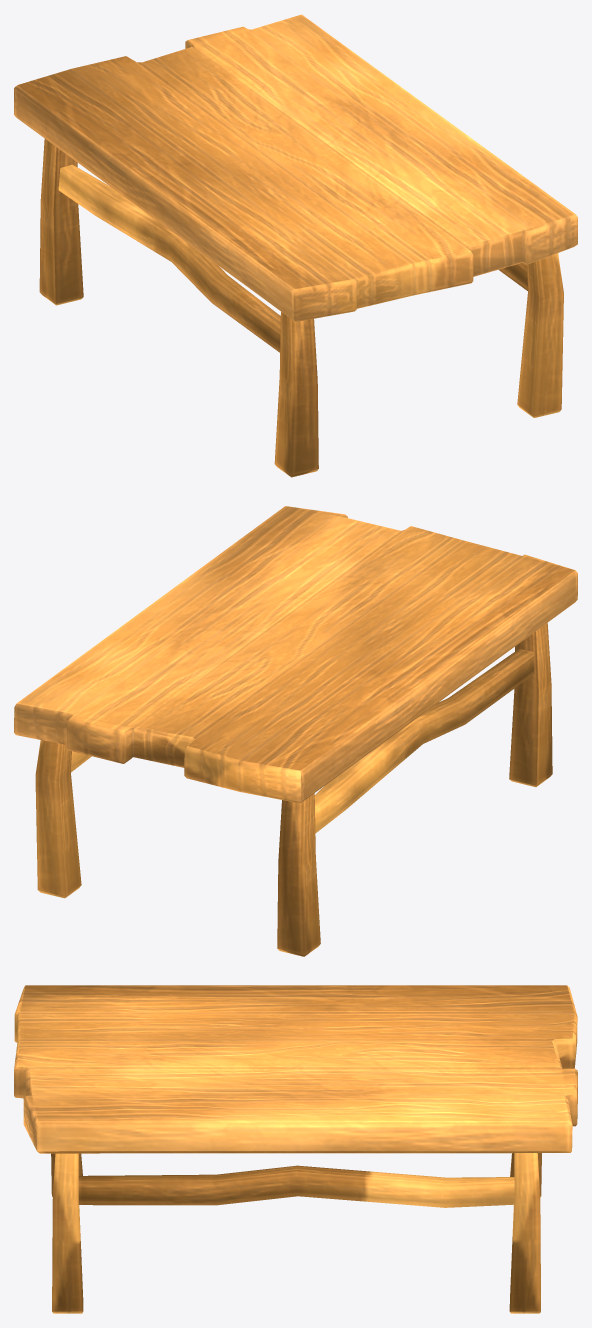
File: SM_Stylized_Table_E.fbx
3 renders of one model, top to bottom at view 1: azimuth 30°, elevation 25°; view 2: azimuth 150°, elevation 25°; view 3: azimuth 270°, elevation 25°, orthographic. The views are drawn at different scales.
Parts seen in each view (by area): view 1: SM_Stylized_Table_E_LOD0; view 2: SM_Stylized_Table_E_LOD0; view 3: SM_Stylized_Table_E_LOD0.
Boxes of the visible parts, x1,y1,x2,y2 form: SM_Stylized_Table_E_LOD0: (14,14,577,477); SM_Stylized_Table_E_LOD0: (14,506,577,956); SM_Stylized_Table_E_LOD0: (14,985,577,1313).
Bounding box in the file's own units: 141 × 243 × 93.28.
